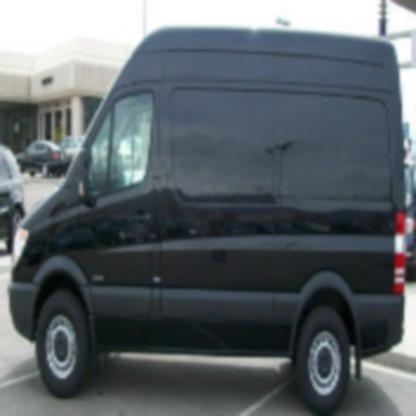Vehicle: (8, 25, 408, 415)
